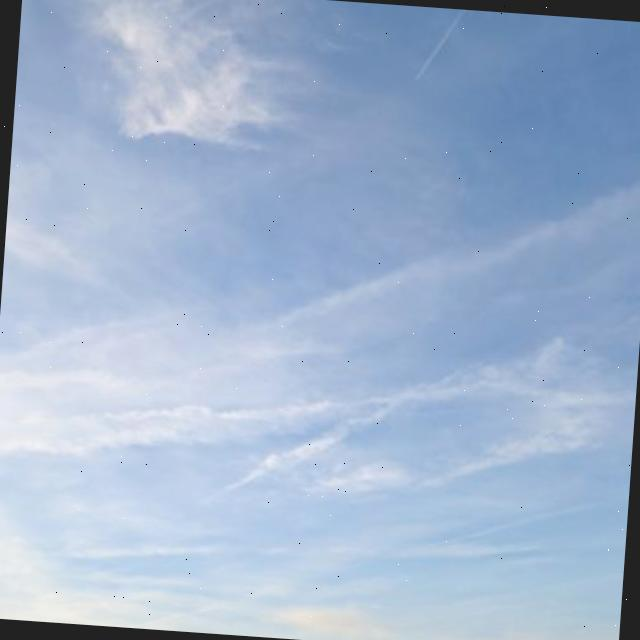Ct: (1, 1, 640, 557)
